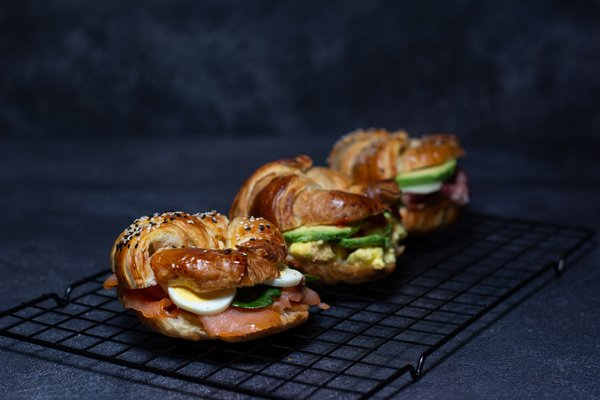soup: (110, 209, 324, 343), (228, 154, 408, 284), (325, 126, 472, 237)
